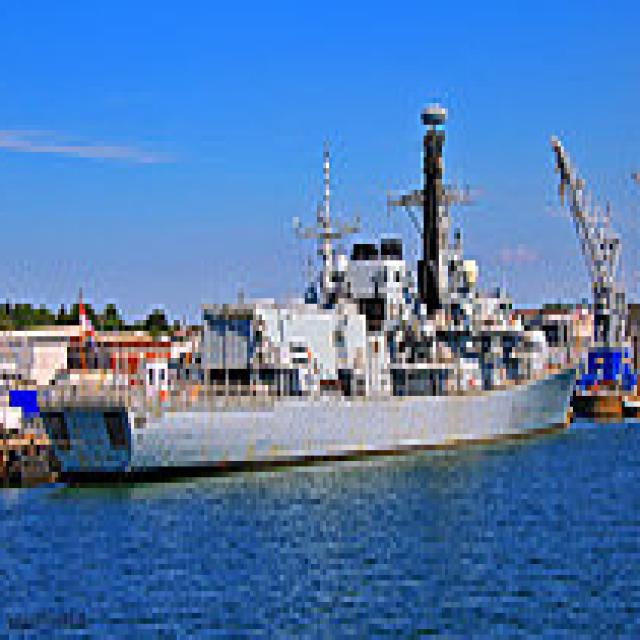Warship: (40, 92, 582, 483)
